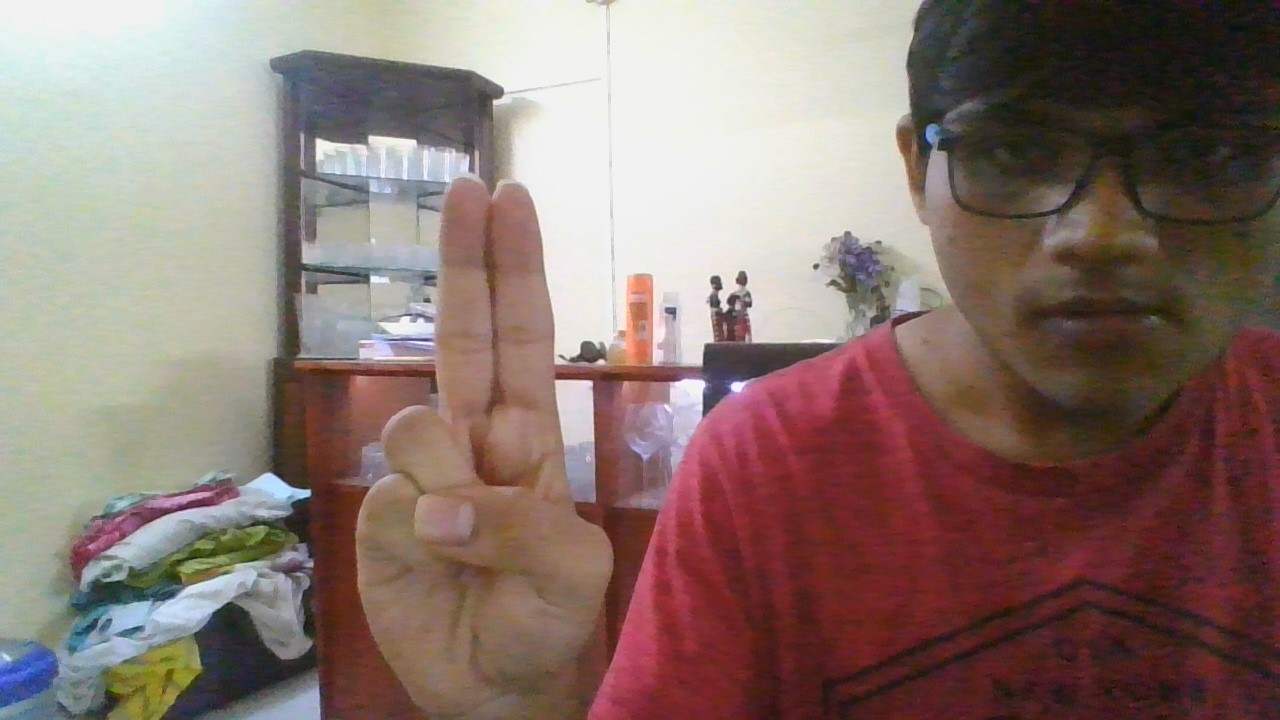u: (348, 173, 615, 712)
